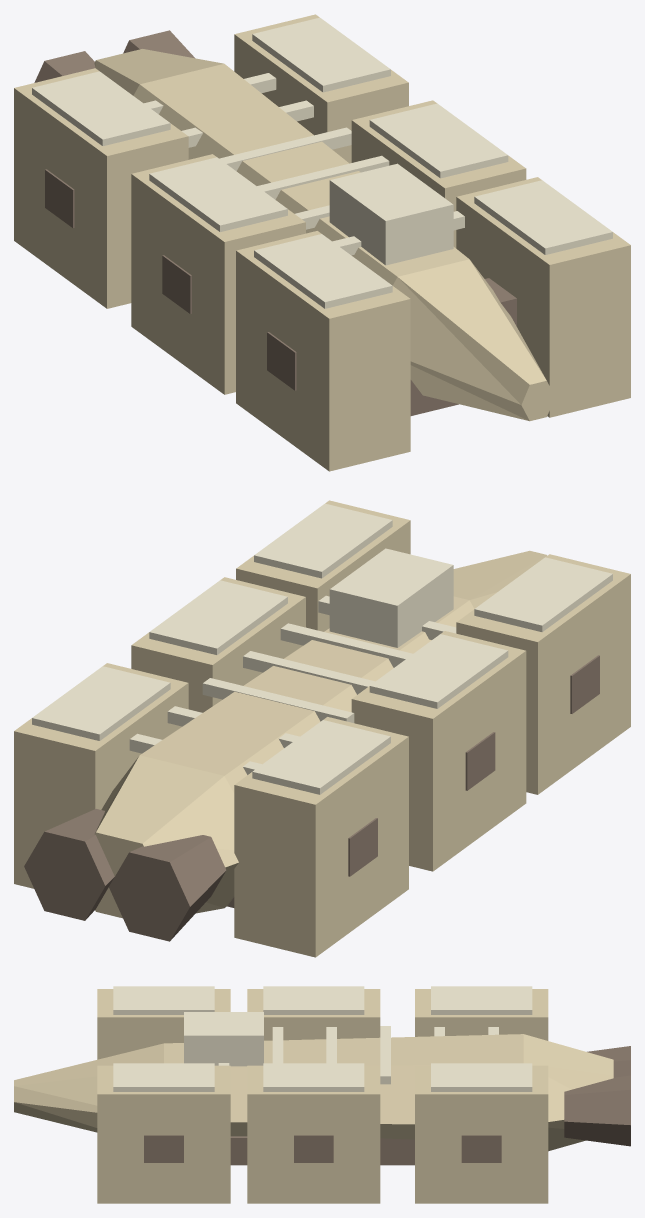
3 views of the same model, one above another, from view 1: azimuth 30°, elevation 25°; view 2: azimuth 150°, elevation 25°; view 3: azimuth 270°, elevation 25° (orthographic). The views are drawn at different scales.
Bounding box in the file's own units: 3.74 × 2.08 × 9.17.
